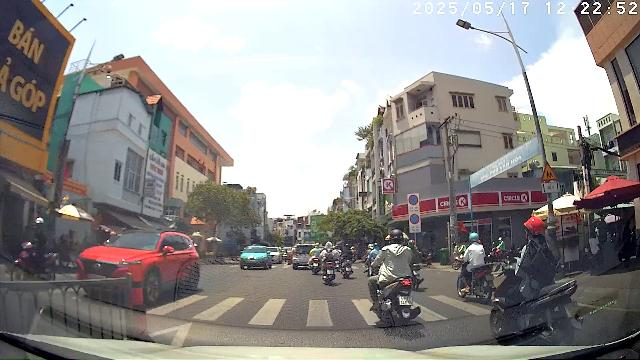130-cam-dung-va-do-xe: (408, 195, 418, 205)
131a-cam-do-xe: (410, 214, 420, 224)
